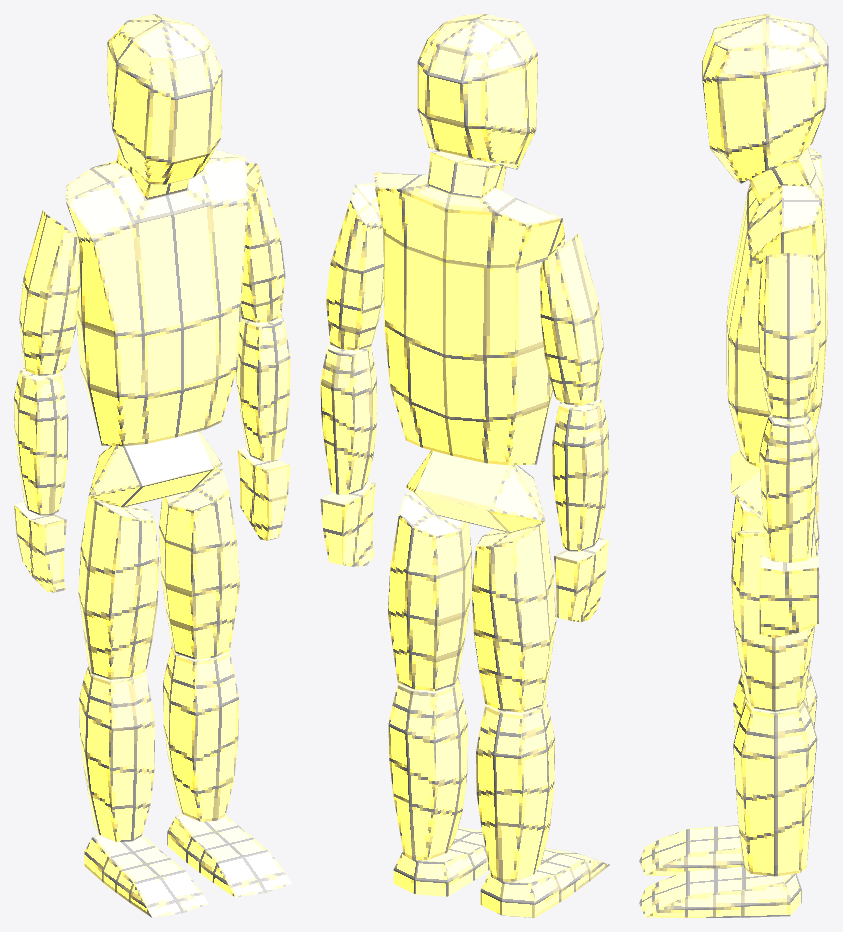
The model's file is PlayerStart.gltf.
3 views of the same model, side by side, from view 1: azimuth 30°, elevation 25°; view 2: azimuth 150°, elevation 25°; view 3: azimuth 270°, elevation 25° (orthographic). The views are drawn at different scales.
Parts seen in each view (by area): view 1: PlayerStart; view 2: PlayerStart; view 3: PlayerStart.
Boxes of the visible parts, x1,y1,x2,y2 form: PlayerStart: (14,14,291,917); PlayerStart: (320,14,609,917); PlayerStart: (639,14,828,917).
Bounding box in the file's own units: 2.2 × 6.57 × 1.31.
